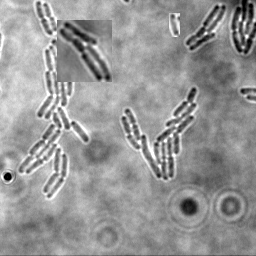Dividing: (34, 1, 52, 37), (41, 3, 57, 33)
Microcolony: (18, 40, 89, 199), (120, 87, 197, 181), (57, 20, 112, 82), (184, 5, 226, 52), (230, 1, 255, 56)
Rod: (169, 13, 180, 37)
